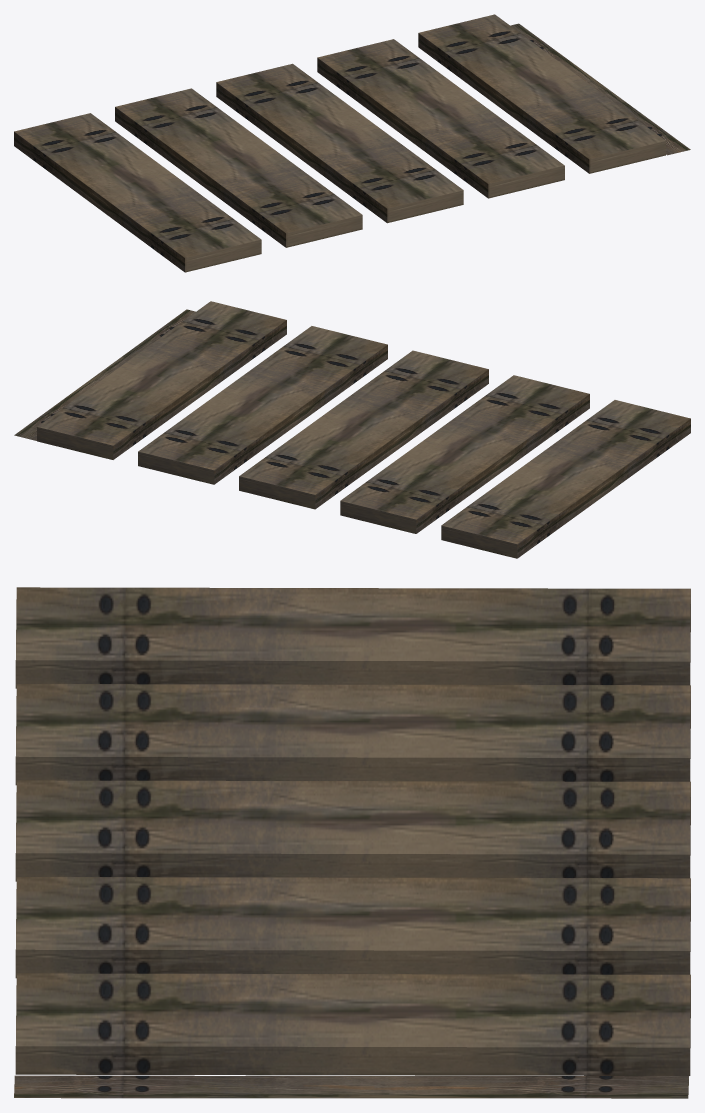
File: Rail_wood_001.fbx
3 renders of one model, top to bottom at view 1: azimuth 30°, elevation 25°; view 2: azimuth 150°, elevation 25°; view 3: azimuth 270°, elevation 25°, orthographic. The views are drawn at different scales.
Parts seen in each view (by area): view 1: Boss1.126; view 2: Boss1.126; view 3: Boss1.126.
Boxes of the visible parts, x1,y1,x2,y2 form: Boss1.126: (14,14,690,272); Boss1.126: (14,301,690,558); Boss1.126: (14,587,690,1098).
Size of the model in its own units: 14.9 by 0.4093 by 8.83.
